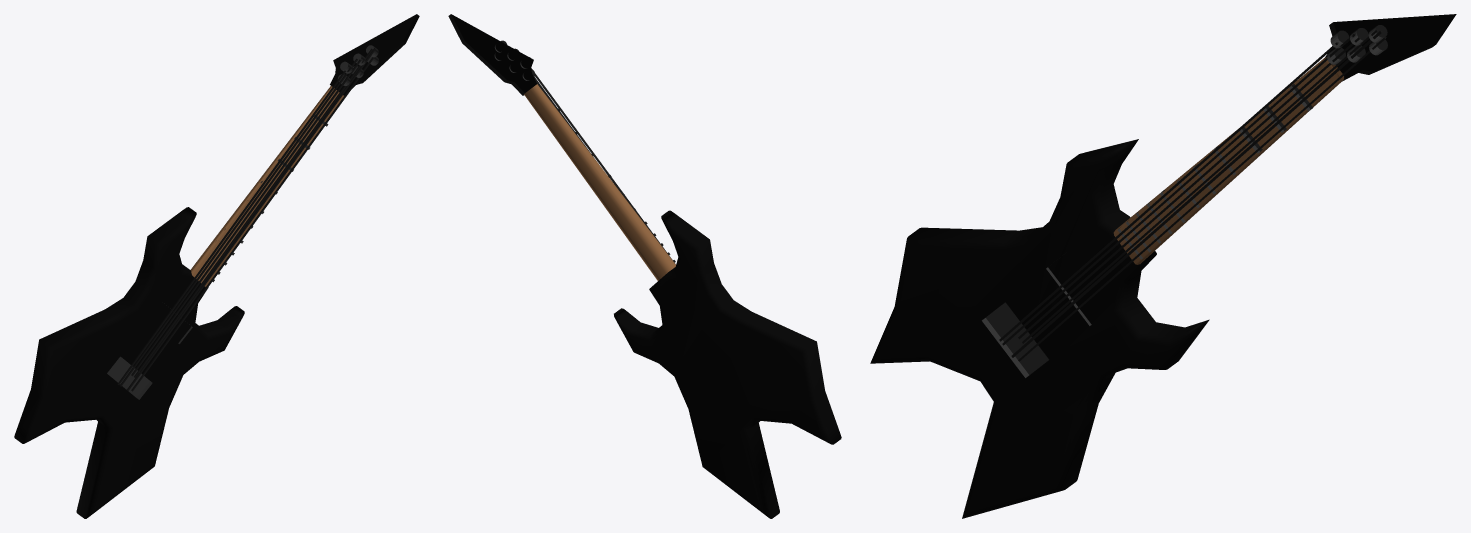
The model's file is GuitareTr0pD4rk.obj.
3 renders of one model, left to right at view 1: azimuth 30°, elevation 25°; view 2: azimuth 150°, elevation 25°; view 3: azimuth 330°, elevation 25°, orthographic. The views are drawn at different scales.
Parts seen in each view (by area): view 1: Cylinder.023_Body, Cylinder.023_Gris_2, Cylinder.023_Manche, Cylinder.023_Gris; view 2: Cylinder.023_Body, Cylinder.023_Manche, Cylinder.023_Gris_2; view 3: Cylinder.023_Body, Cylinder.023_Gris_2, Cylinder.023_Manche, Cylinder.023_Gris.
Part boxes in pixels (x1,y1,x2,y2): Cylinder.023_Body: [14, 14, 419, 518]; Cylinder.023_Gris_2: [117, 48, 375, 391]; Cylinder.023_Manche: [190, 86, 343, 286]; Cylinder.023_Gris: [107, 45, 378, 399]; Cylinder.023_Body: [448, 14, 841, 518]; Cylinder.023_Manche: [524, 84, 675, 280]; Cylinder.023_Gris_2: [531, 68, 672, 259]; Cylinder.023_Body: [870, 14, 1456, 518]; Cylinder.023_Gris_2: [999, 29, 1386, 361]; Cylinder.023_Manche: [1113, 57, 1343, 264]; Cylinder.023_Gris: [982, 25, 1387, 377].
Bounding box in the file's own units: 4.8 × 4.9 × 0.3491.
